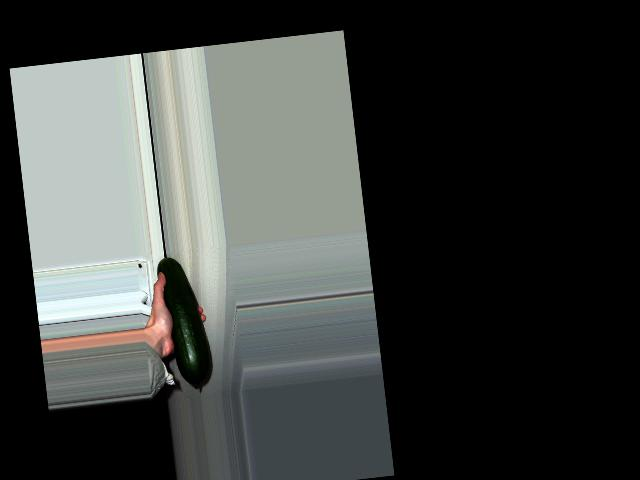cucumber: (156, 253, 215, 391)
